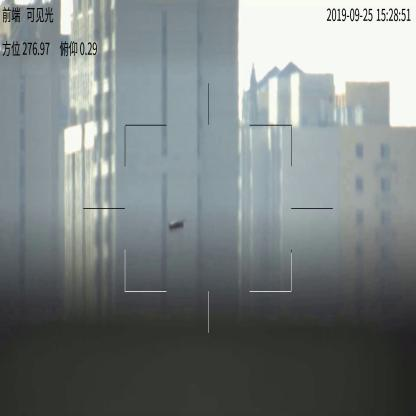uav: (168, 218, 185, 232)
